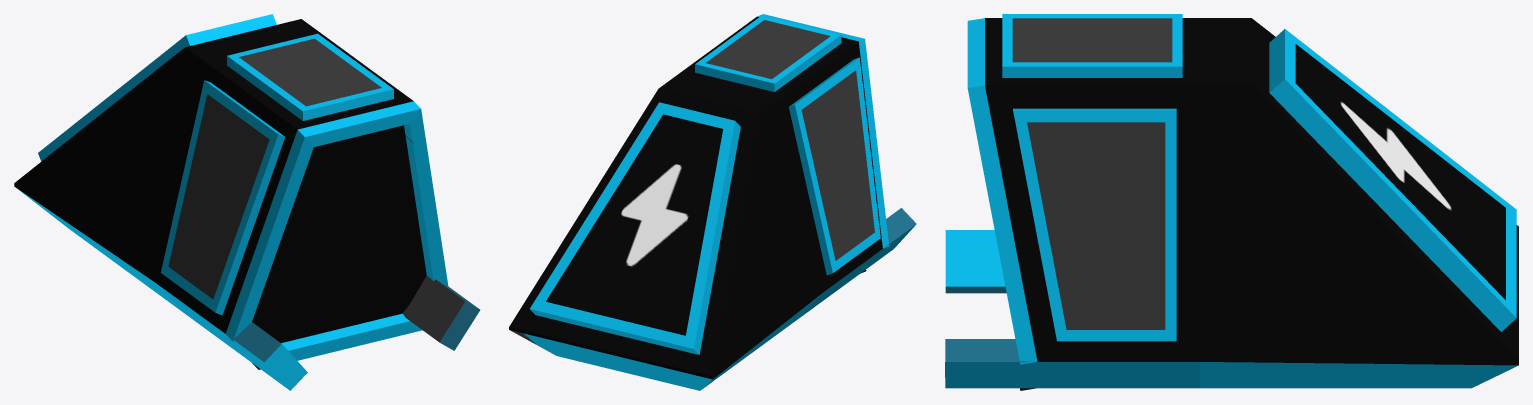
File: GUNGUNGUNGUNGUNGUNGUNGUGNUGNUGNUNGUGNGUNGUNGUNGUGUNGUNGUGNUGNUGNGUNGUNGUNGUGNUGNGUNGUGNUGNUGNGUNGUNGUNGUGNUGNGUNGUNGUGNGUNGUNGNUGNUNGUNGUGNUGNUNG.obj
3 views of the same model, side by side, from view 1: azimuth 30°, elevation 25°; view 2: azimuth 150°, elevation 25°; view 3: azimuth 270°, elevation 25° (orthographic). The views are drawn at different scales.
Parts seen in each view (by area): view 1: Cube; view 2: Cube; view 3: Cube.
Part boxes in pixels (x1,y1,x2,y2): Cube: (14,14,480,390); Cube: (509,14,916,390); Cube: (945,14,1518,390).
Bounding box in the file's own units: 2 × 2.1 × 3.6.
